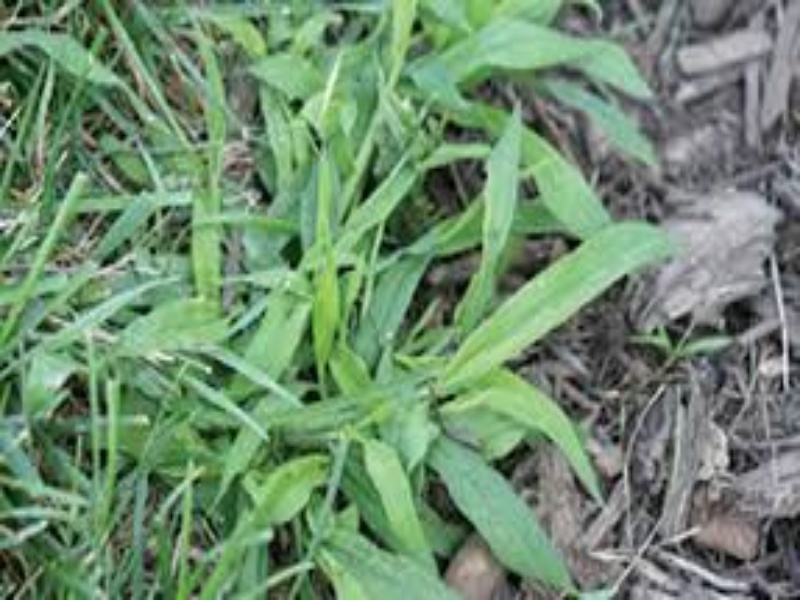weed: (228, 255, 584, 577), (258, 26, 577, 251)
